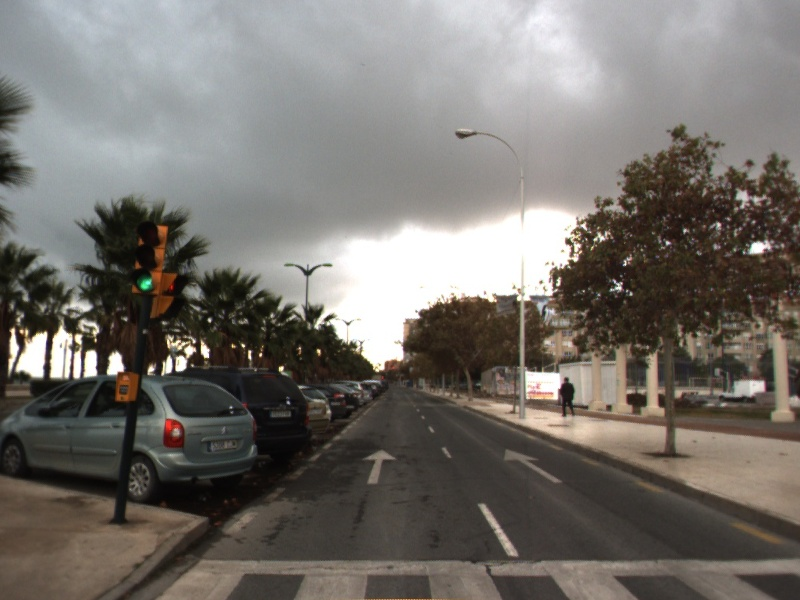STRAIGHT: (503, 448, 565, 484), (361, 448, 399, 485)
